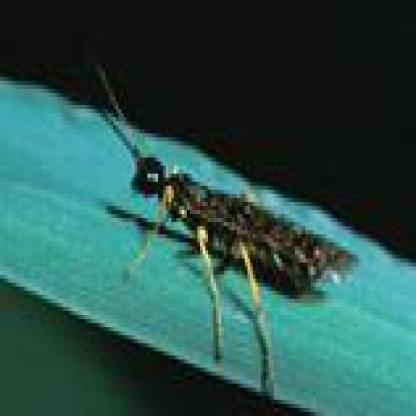sawfly: (75, 75, 365, 404)
